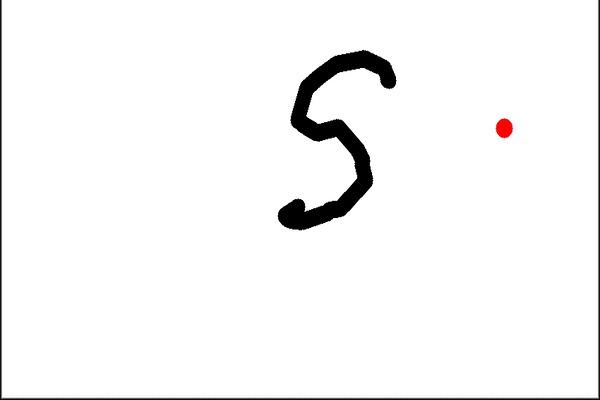S: (270, 45, 400, 233)
